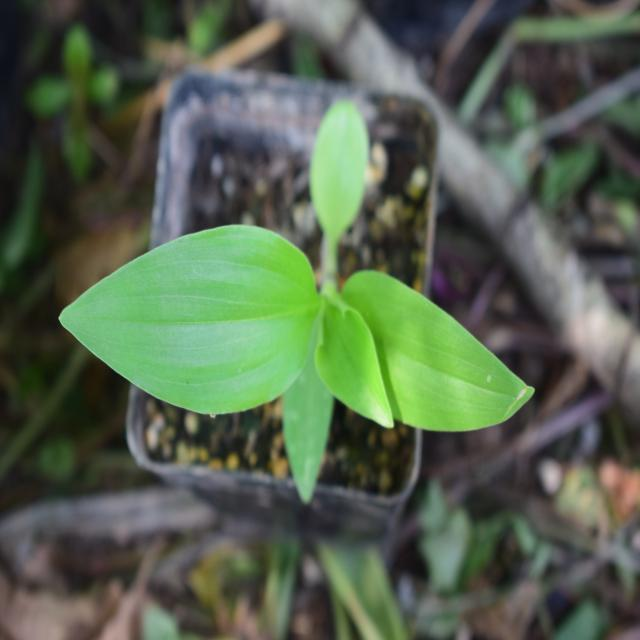Common Dayflower: (66, 169, 517, 500)
